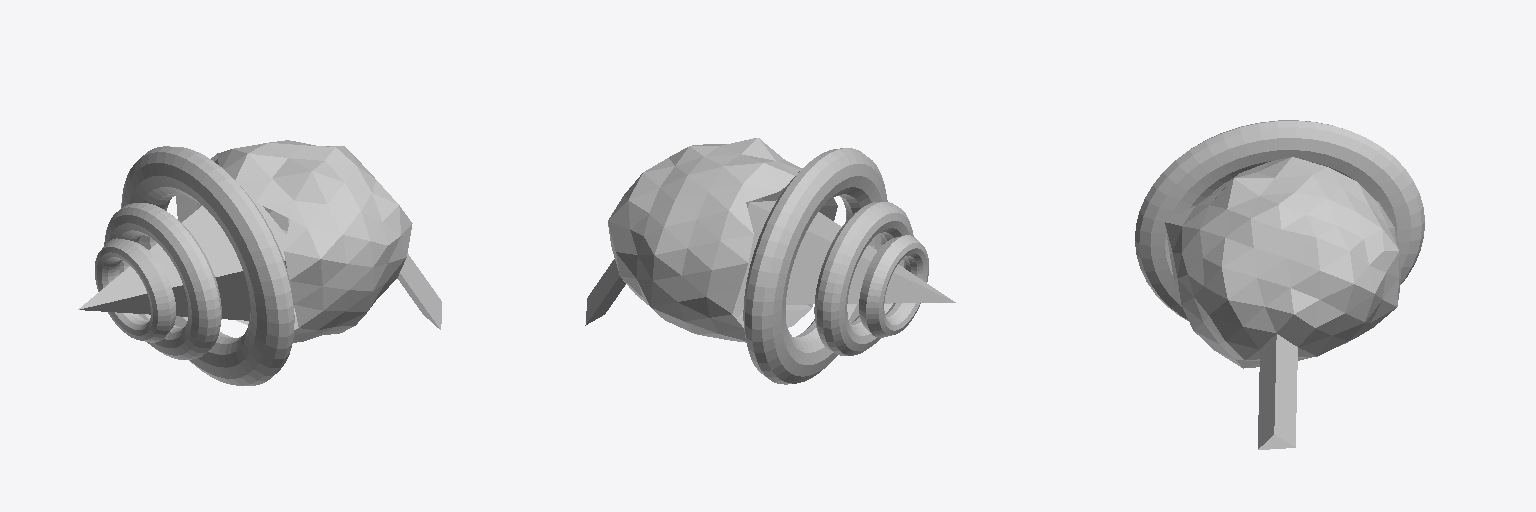
Rendered from RayGun.obj.
3 views of the same model, side by side, from view 1: azimuth 30°, elevation 25°; view 2: azimuth 150°, elevation 25°; view 3: azimuth 270°, elevation 25° (orthographic).
Visible parts, largest first — view 1: Cube.001; view 2: Cube.001; view 3: Cube.001.
Boxes of the visible parts, <box> form: Cube.001: <box>78,140,441,385</box>; Cube.001: <box>585,138,955,384</box>; Cube.001: <box>1135,120,1424,449</box>.
Bounding box in the file's own units: 3.34 × 1.9 × 2.29.